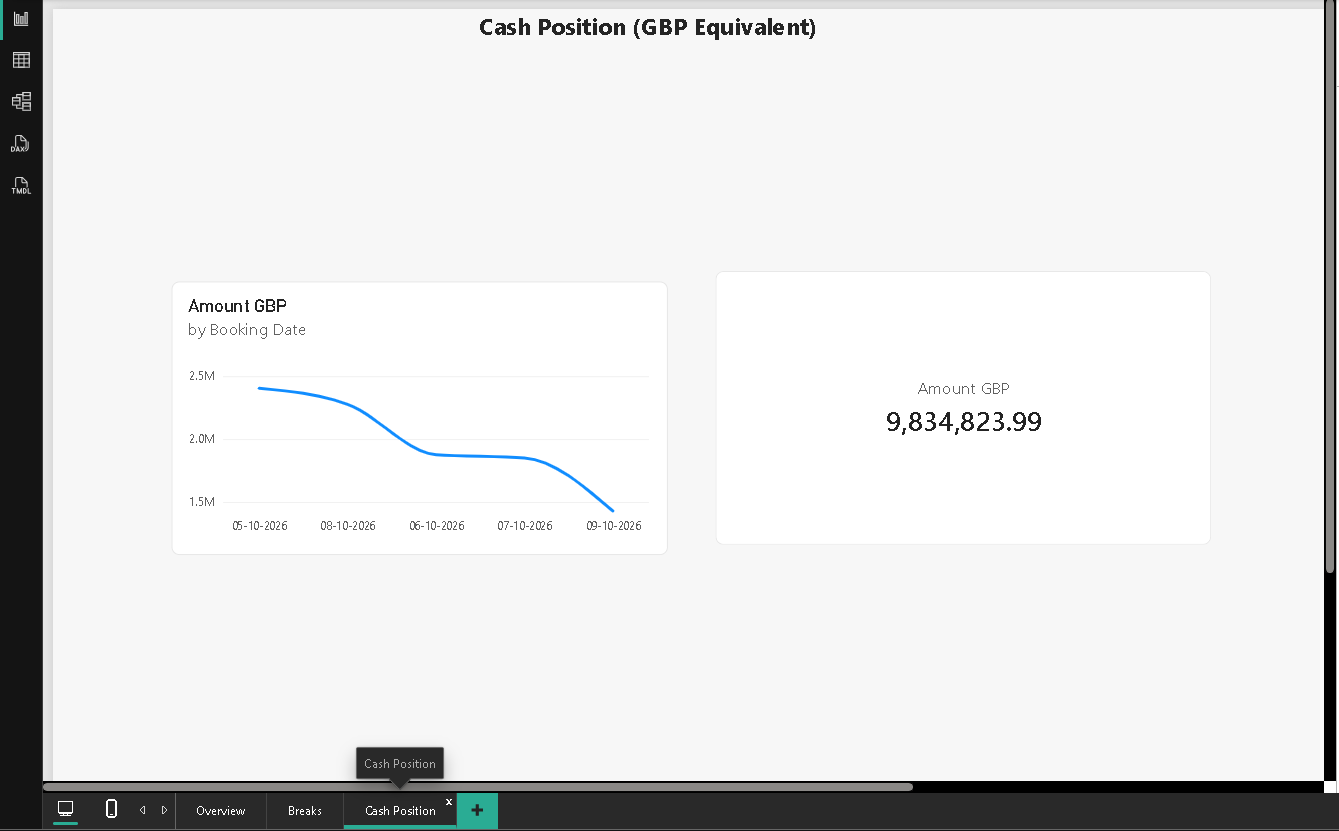

The dashboard page shown, as its layout file describes it:
{"tool":"powerbi","page":{"name":"Cash Position","canvas":[1920,1080],"ordinal":2},"visuals":[{"type":"lineChart","fields":{"Category":["tblBank.Booking Date"],"Y":["tblBank.Amount GBP"]},"box":[121.3,278.7,507.4,279.8],"z":0},{"type":"cardVisual","fields":{"Data":["tblBank.Amount GBP"]},"box":[677.7,268.1,507,280],"z":1},{"type":"textbox","box":[121.3,0,975.5,54.3],"z":2}]}

Visuals, with their boxes on the page's 1920x1080 design canvas (x1, y1, x2, y2). These are canvas units, not pixel positions in the 1339x831 screenshot, which may show the page scaled, cropped or inside an application window:
lineChart - tblBank.Booking Date x tblBank.Amount GBP: 121 279 629 558
cardVisual - tblBank.Amount GBP: 678 268 1185 548
textbox: 121 0 1097 54
